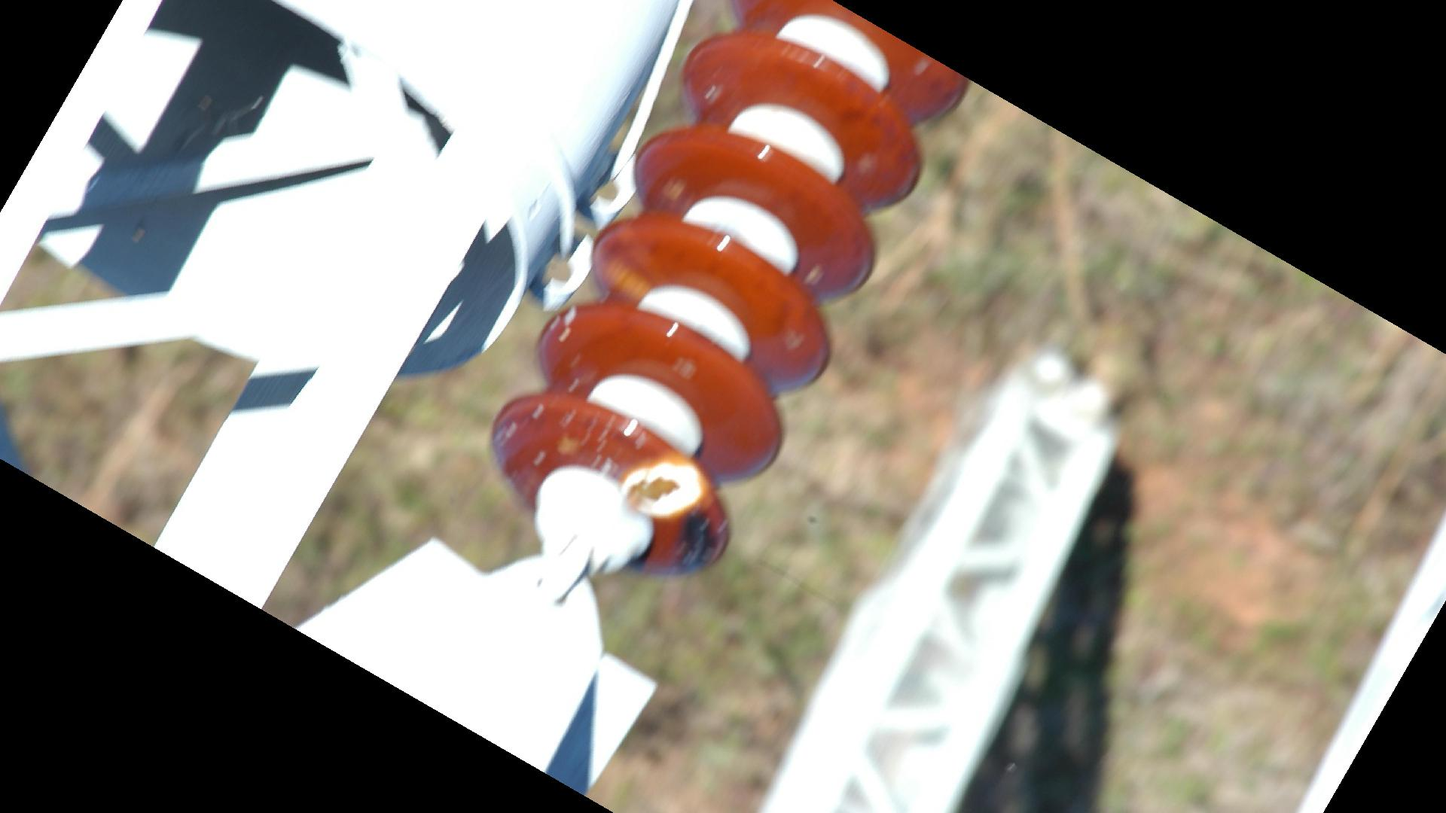insulator: (482, 1, 981, 583)
insulator_flashover: (617, 459, 706, 522), (596, 255, 649, 303)
